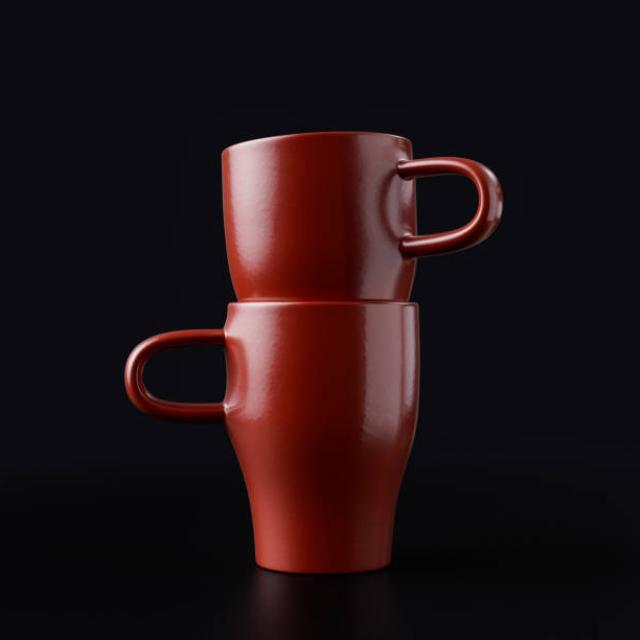Red_cup: (125, 303, 418, 573), (221, 132, 500, 301)
